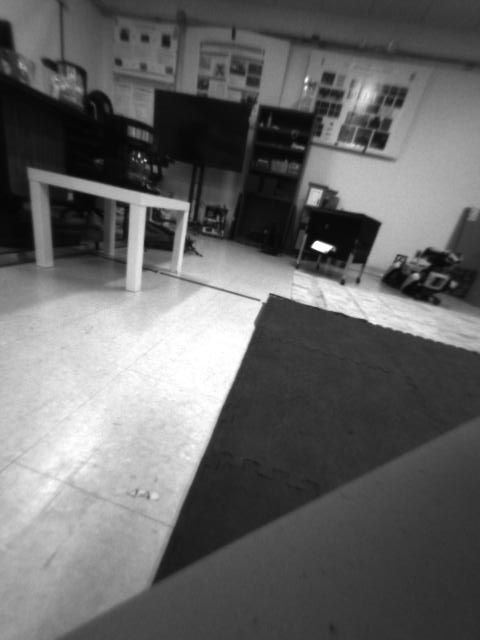coffee_pot: (112, 110, 159, 200)
